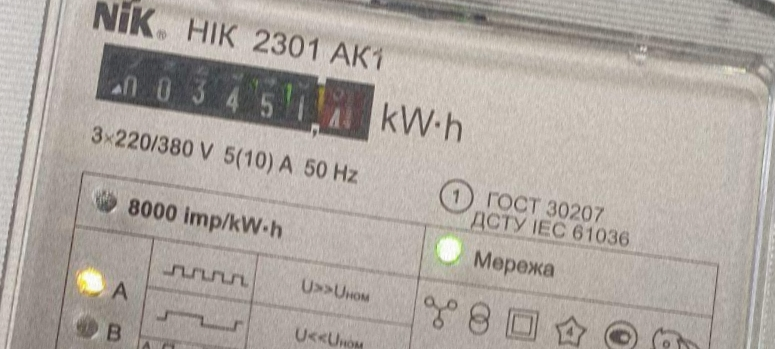0: (151, 73, 173, 103), (117, 69, 139, 98)
1: (290, 90, 309, 123)
3: (186, 74, 208, 107)
4: (219, 82, 243, 116), (321, 103, 344, 133)
5: (255, 87, 275, 120)
screen: (85, 36, 381, 149)
